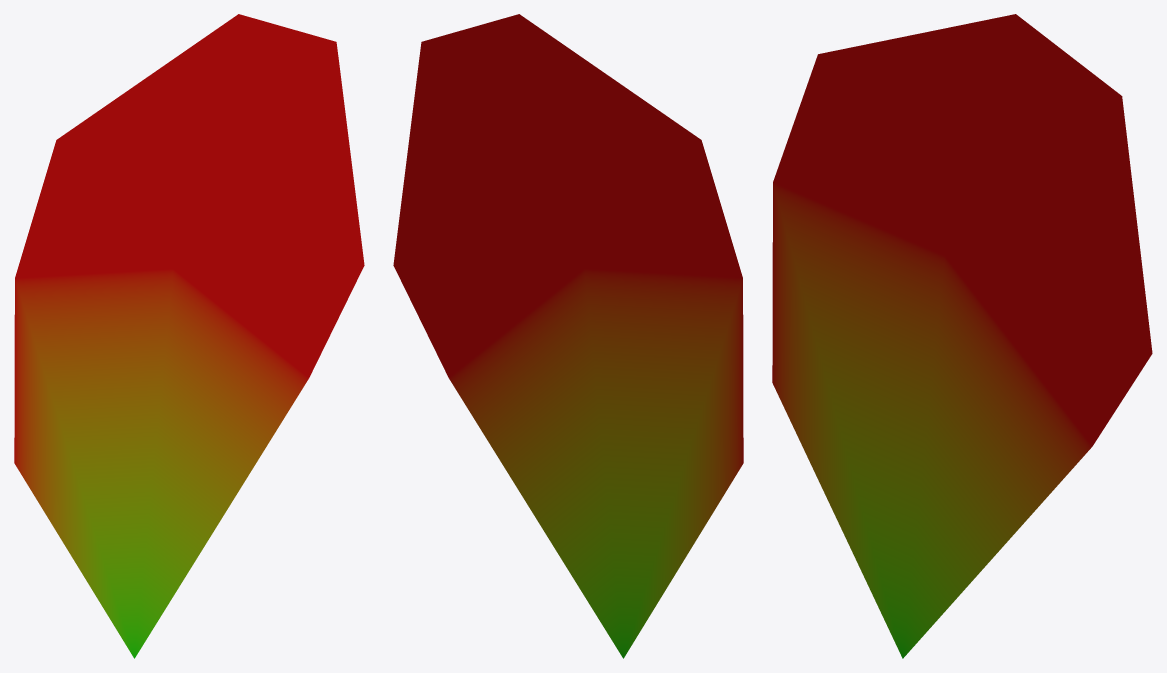
Rendered from Rose Hip_LOD5_Var7.fbx.
3 views of the same model, side by side, from view 1: azimuth 30°, elevation 25°; view 2: azimuth 150°, elevation 25°; view 3: azimuth 330°, elevation 25° (orthographic). The views are drawn at different scales.
Parts seen in each view (by area): view 1: _qjvv_Var7_LOD5; view 2: _qjvv_Var7_LOD5; view 3: _qjvv_Var7_LOD5.
Boxes of the visible parts, x1,y1,x2,y2 form: _qjvv_Var7_LOD5: [14, 14, 364, 658]; _qjvv_Var7_LOD5: [393, 14, 743, 658]; _qjvv_Var7_LOD5: [772, 14, 1152, 658].
Bounding box in the file's own units: 69.44 × 117 × 1.46e-08.
